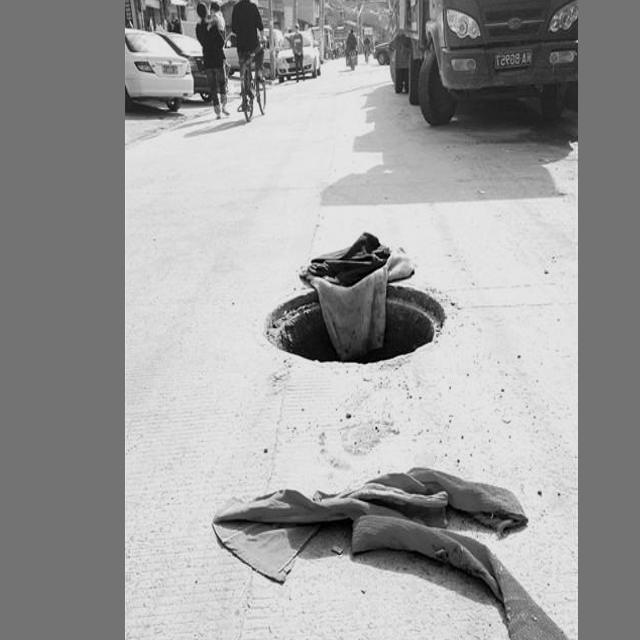lose: (255, 264, 452, 379)
